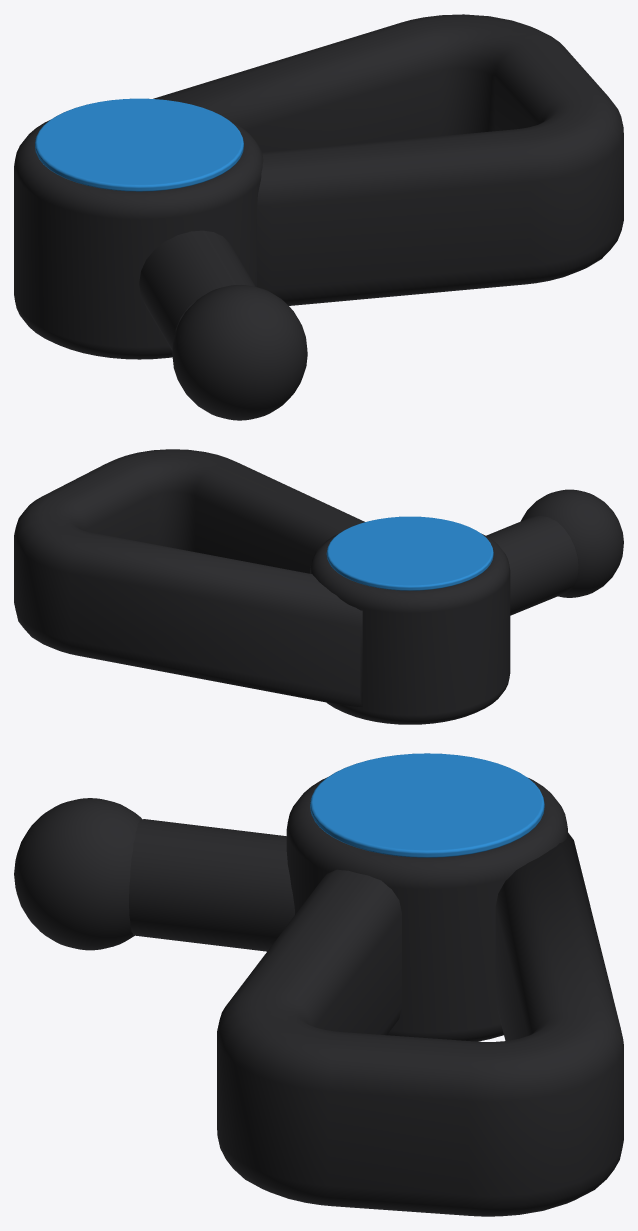
File: theragun-pro-plus_v001.glb
3 renders of one model, top to bottom at view 1: azimuth 30°, elevation 25°; view 2: azimuth 150°, elevation 25°; view 3: azimuth 270°, elevation 25°, orthographic. The views are drawn at different scales.
Parts seen in each view (by area): view 1: theragun-pro-plus_body, theragun-pro-plus_body.001, theragun-pro-plus_blue, theragun-pro-plus_body.003, theragun-pro-plus_body.002; view 2: theragun-pro-plus_body, theragun-pro-plus_body.001, theragun-pro-plus_blue, theragun-pro-plus_body.002, theragun-pro-plus_body.003; view 3: theragun-pro-plus_body, theragun-pro-plus_body.001, theragun-pro-plus_blue, theragun-pro-plus_body.002, theragun-pro-plus_body.003.
Part boxes in pixels (<box>): theragun-pro-plus_body: <box>153,14,623,305</box>; theragun-pro-plus_body.001: <box>14,120,263,359</box>; theragun-pro-plus_blue: <box>35,98,243,191</box>; theragun-pro-plus_body.003: <box>172,285,307,420</box>; theragun-pro-plus_body.002: <box>139,230,255,349</box>; theragun-pro-plus_body: <box>14,449,364,706</box>; theragun-pro-plus_body.001: <box>310,533,510,724</box>; theragun-pro-plus_blue: <box>326,516,493,590</box>; theragun-pro-plus_body.002: <box>486,515,578,615</box>; theragun-pro-plus_body.003: <box>521,489,623,597</box>; theragun-pro-plus_body: <box>217,832,623,1216</box>; theragun-pro-plus_body.001: <box>286,777,567,1041</box>; theragun-pro-plus_blue: <box>310,753,544,857</box>; theragun-pro-plus_body.002: <box>129,819,294,951</box>; theragun-pro-plus_body.003: <box>14,798,141,950</box>.
Size of the model in its own units: 0.2479 by 0.0725 by 0.2081.
